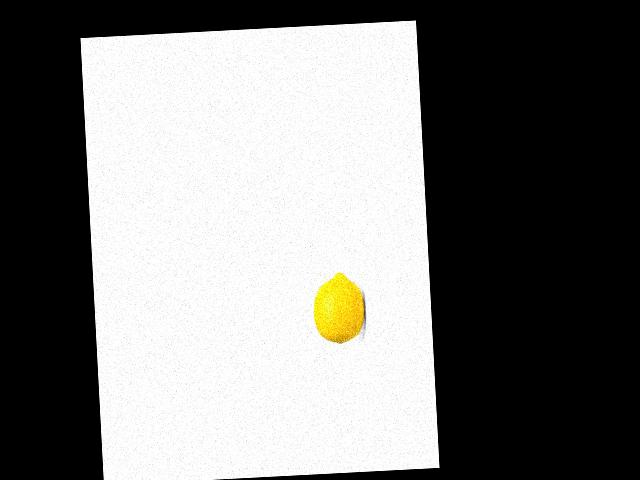lemon: (310, 267, 366, 348)
